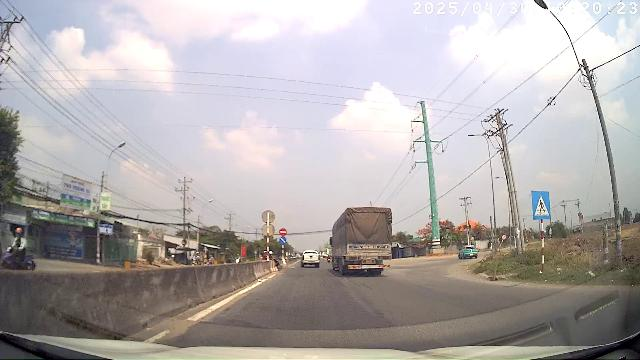102-cam-di-nguoc-chieu: (279, 228, 287, 236)
302a-huong-phai-di-vong-chuong-ngai-vat-1: (279, 236, 287, 244)
423a-duong-nguoi-di-bo-sang-ngang-1: (532, 191, 551, 219)
